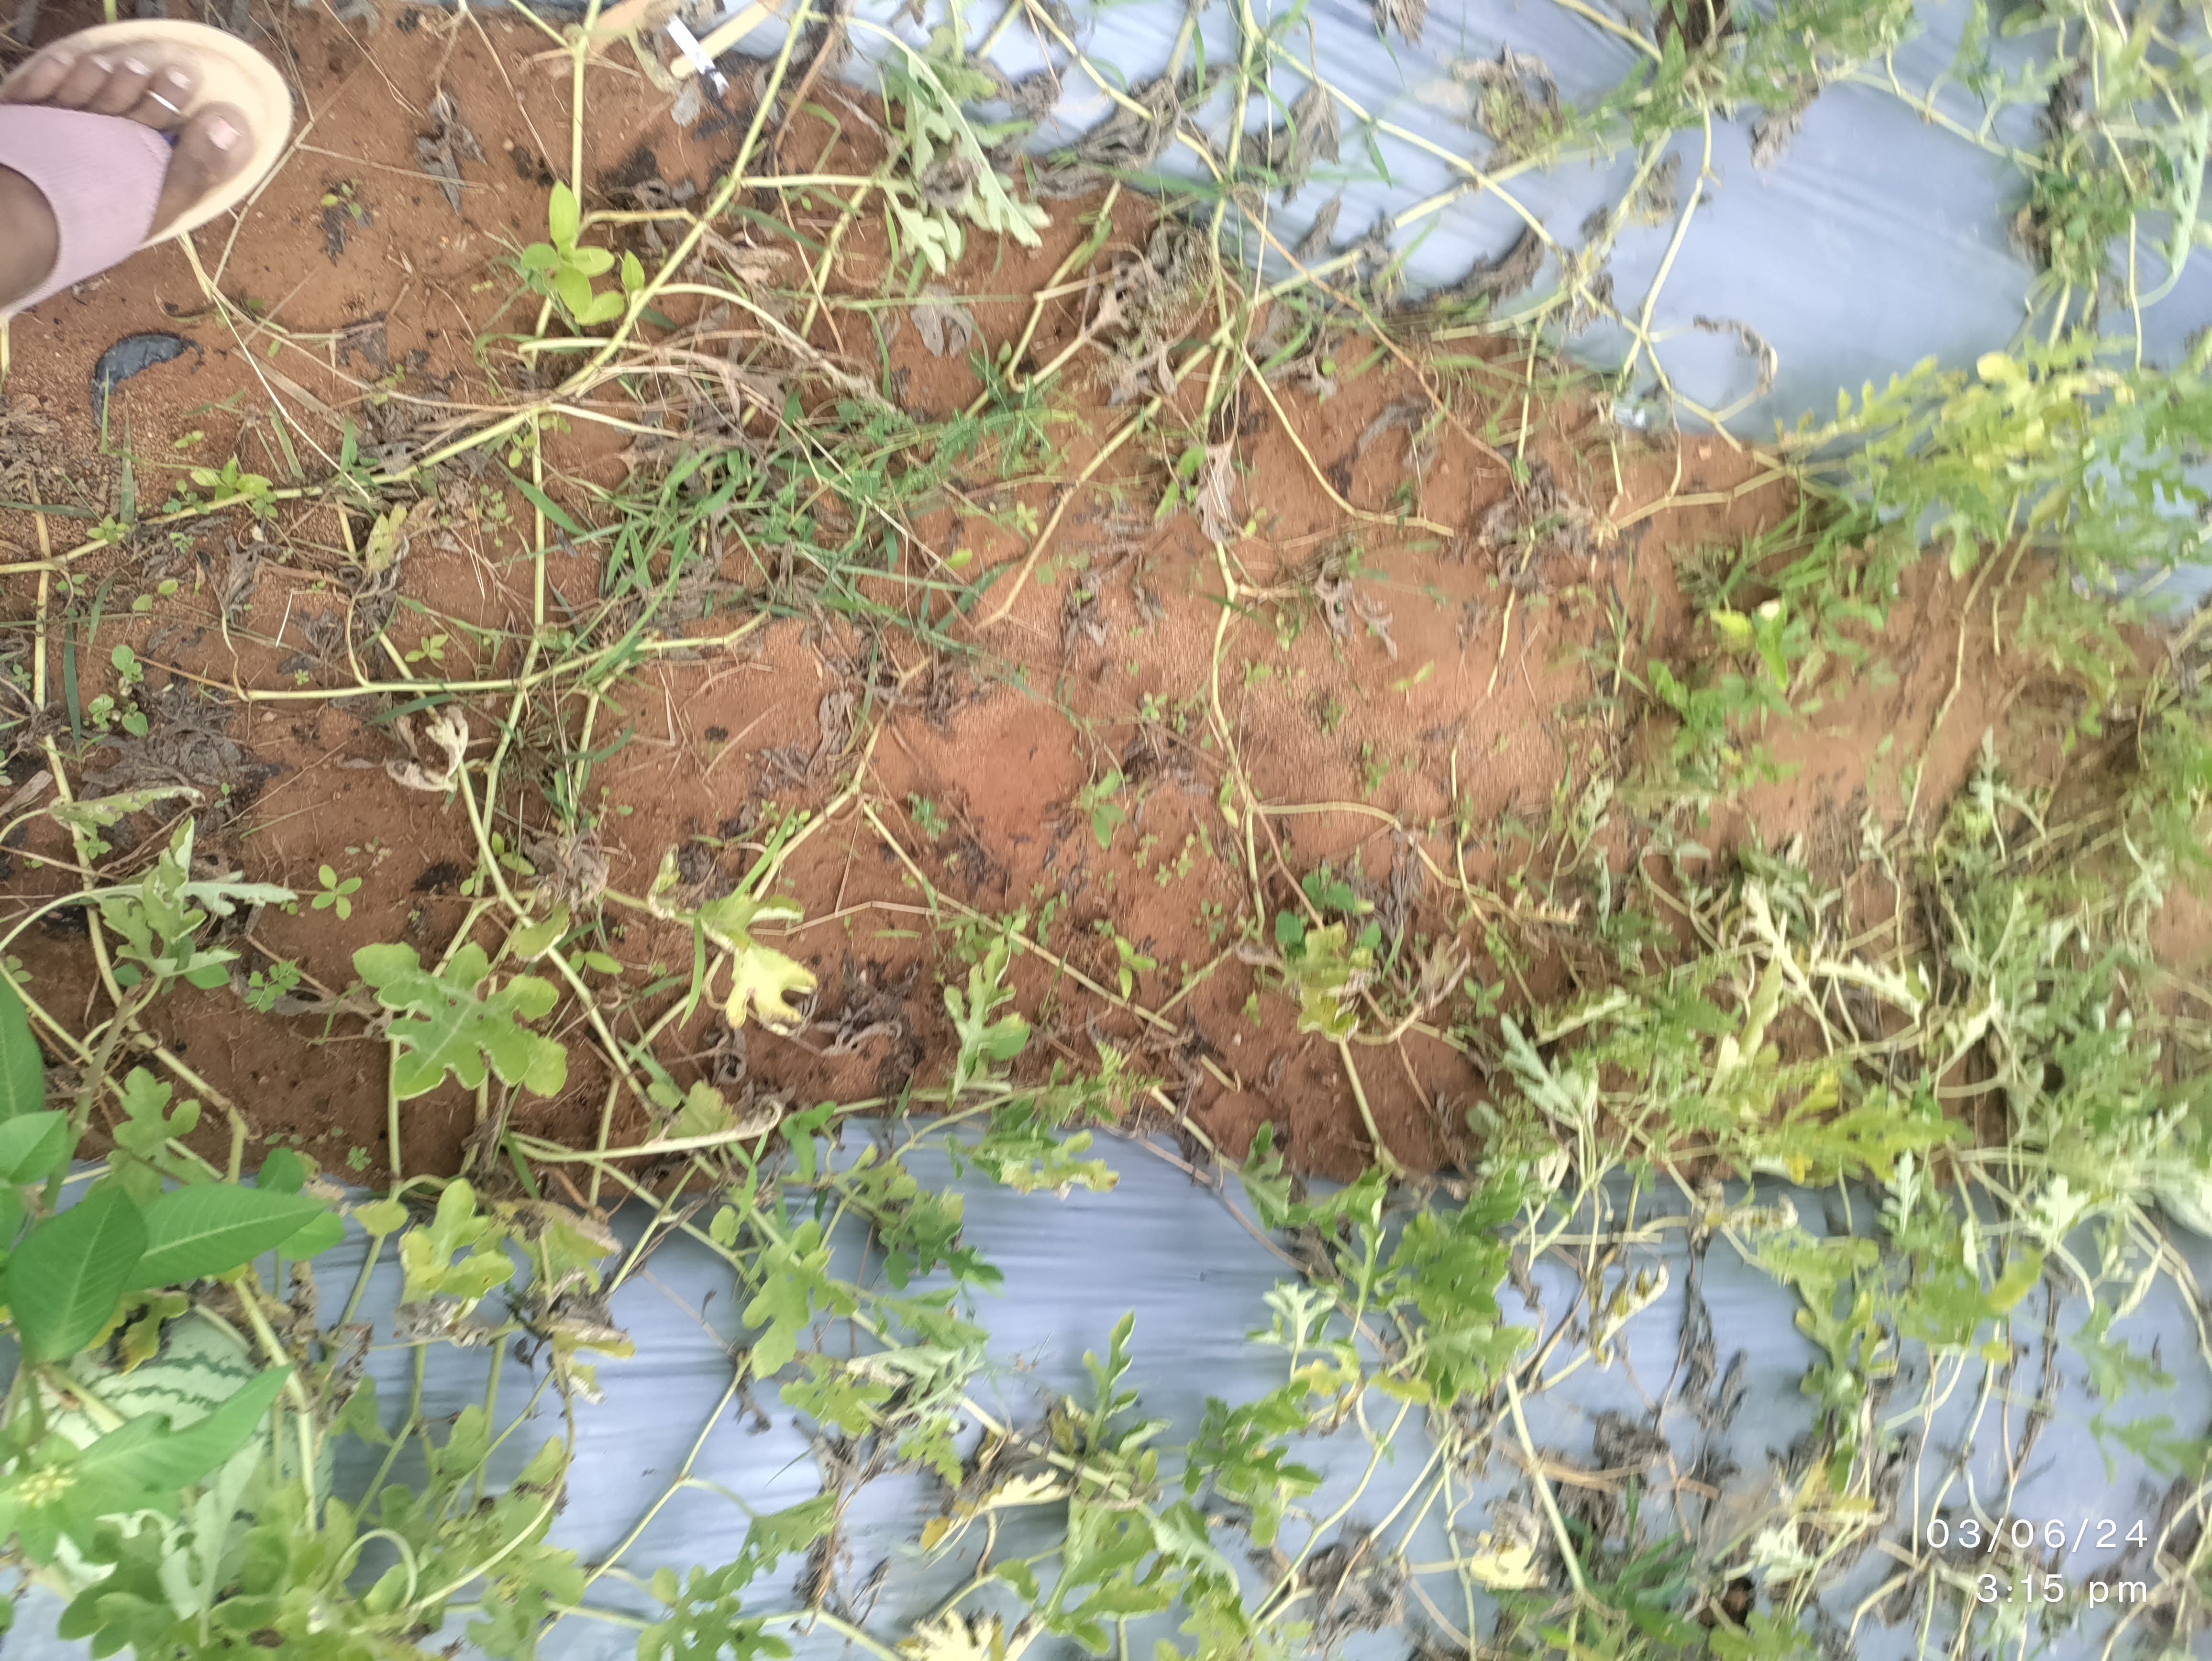not-good-to-harvest: (654, 52, 2116, 1117)
